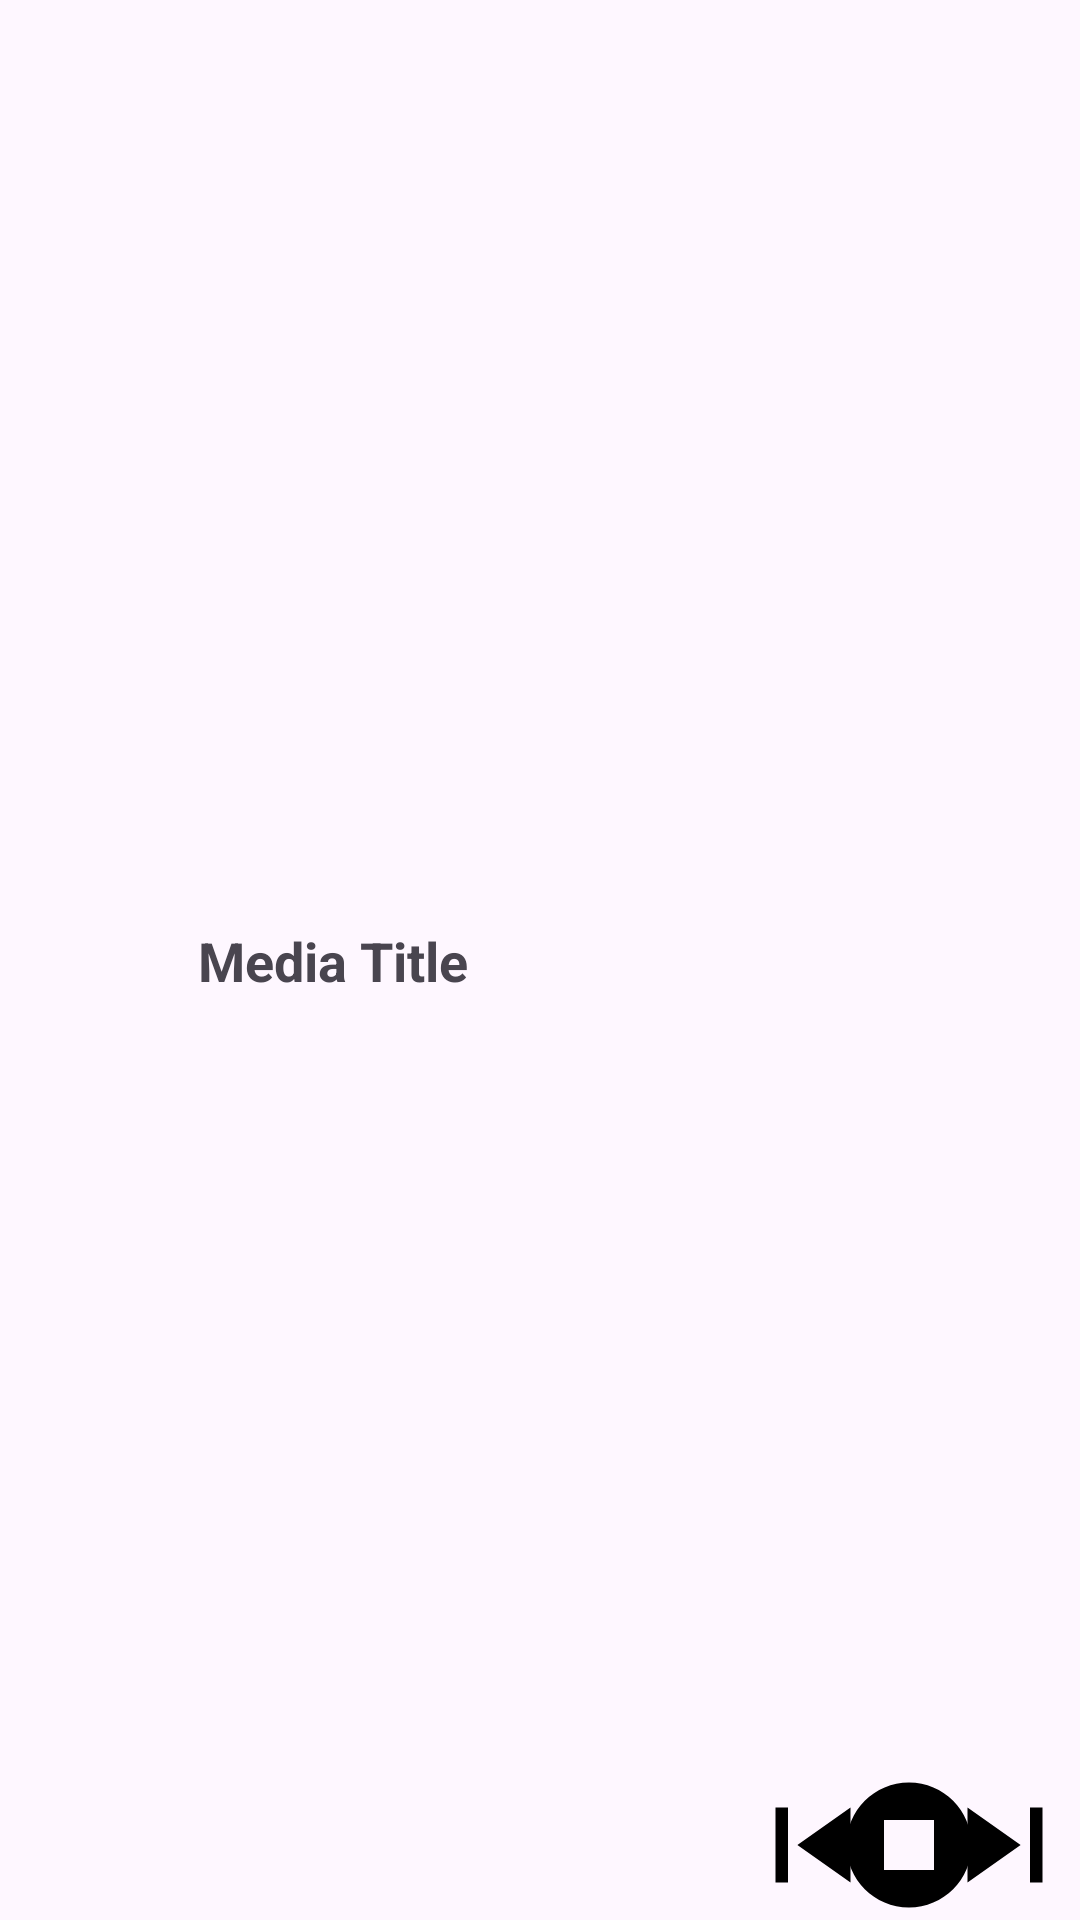

Where icons sit on this 1080×1920 app screen, as bbox=[x1, y1, x2, y2]:
stop: bbox=[834, 1782, 984, 1908]
